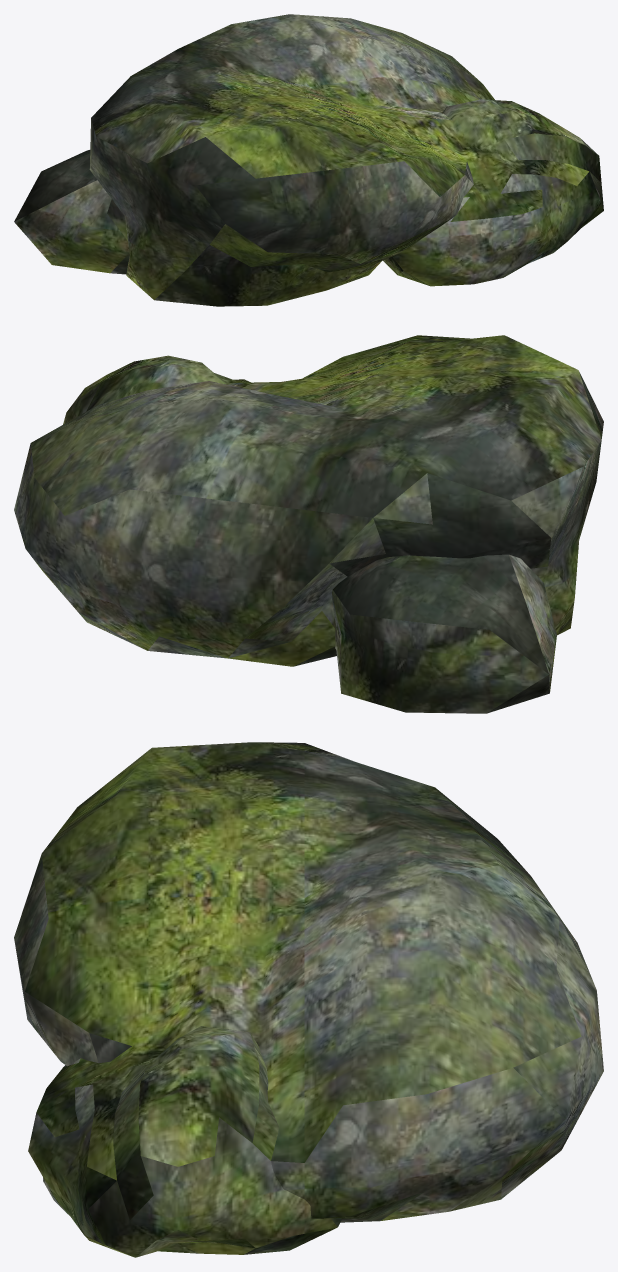
The model's file is rock_river_boulder.glb.
The picture shows the model from 3 angles, top to bottom: view 1: azimuth 30°, elevation 25°; view 2: azimuth 150°, elevation 25°; view 3: azimuth 270°, elevation 25°; orthographic projection. The views are drawn at different scales.
Parts seen in each view (by area): view 1: rock_river_boulder; view 2: rock_river_boulder; view 3: rock_river_boulder.
Boxes of the visible parts, left/top/right/bottom form: rock_river_boulder: left=14, top=14, right=603, bottom=306; rock_river_boulder: left=14, top=335, right=603, bottom=713; rock_river_boulder: left=14, top=742, right=603, bottom=1257.
Bounding box in the file's own units: 2.83 × 1.09 × 2.05.
1 material, 1 textured.
